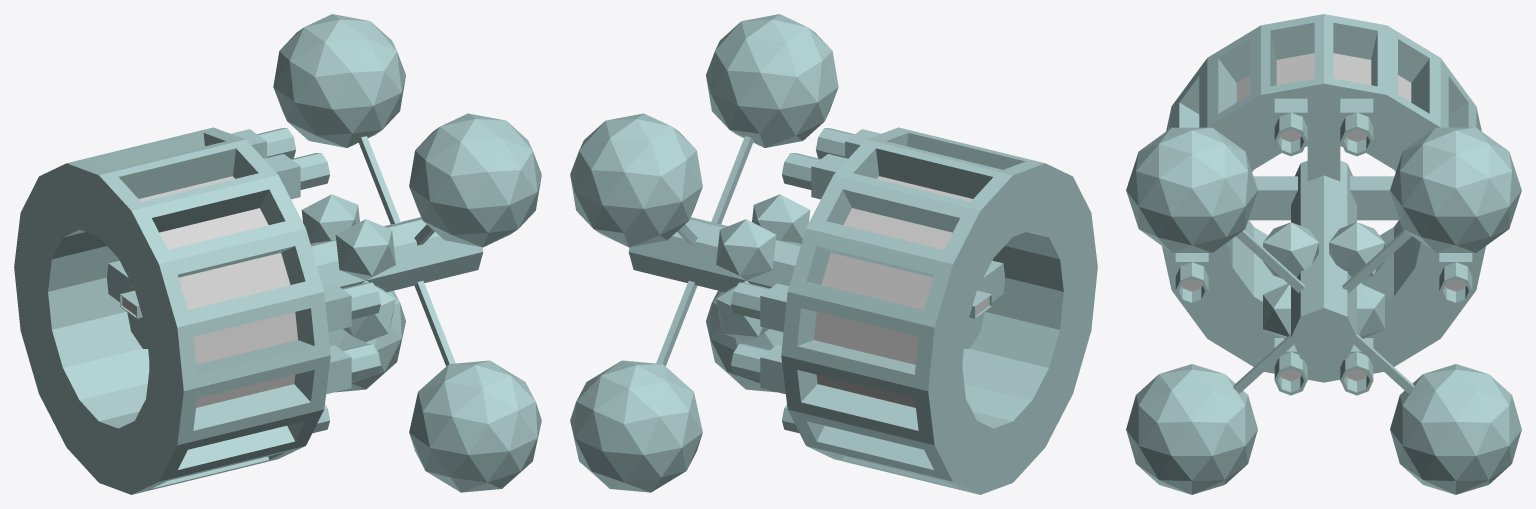
Rendered from TransportShip.fbx.
3 renders of one model, left to right at view 1: azimuth 30°, elevation 25°; view 2: azimuth 150°, elevation 25°; view 3: azimuth 270°, elevation 25°, orthographic. The views are drawn at different scales.
Visible parts, largest first — view 1: Carrier; view 2: Carrier; view 3: Carrier.
Part boxes in pixels (bbox=[...]): Carrier: bbox=[14, 14, 541, 494]; Carrier: bbox=[570, 14, 1097, 494]; Carrier: bbox=[1126, 14, 1521, 494].
Size of the model in its own units: 1250 by 1200 by 1200.
